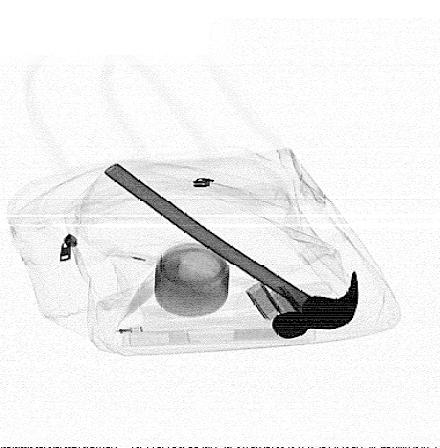Hammer: (103, 163, 358, 341)
